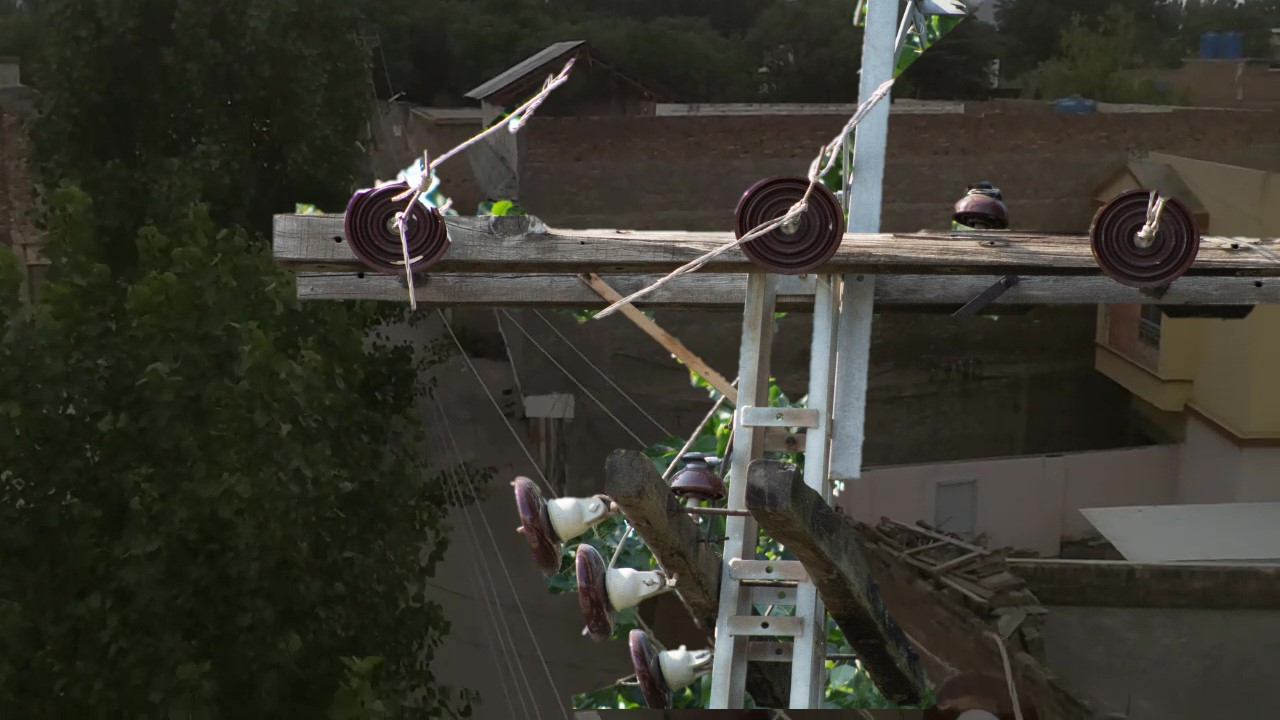defect_disc: (342, 163, 462, 287)
insulator_disc: (727, 170, 850, 280), (1088, 179, 1204, 292), (612, 633, 702, 714), (558, 539, 622, 644), (507, 467, 569, 572)
insulator_pin: (669, 443, 728, 508), (952, 179, 1015, 227)
